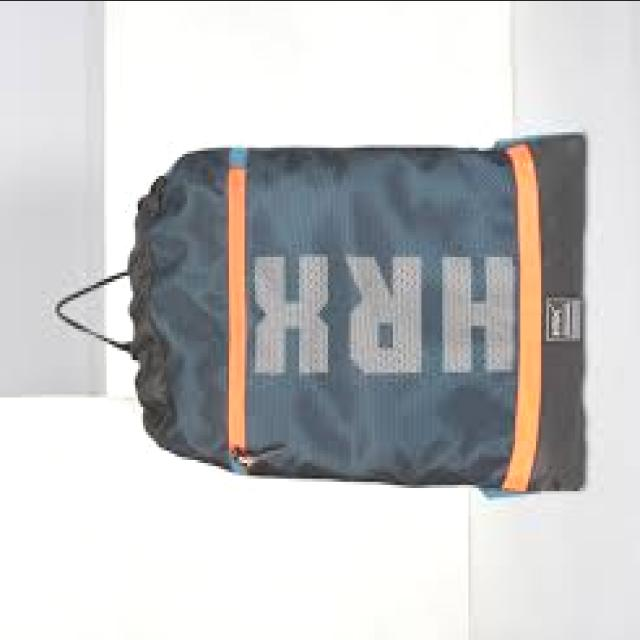backpack: (53, 132, 587, 498)
